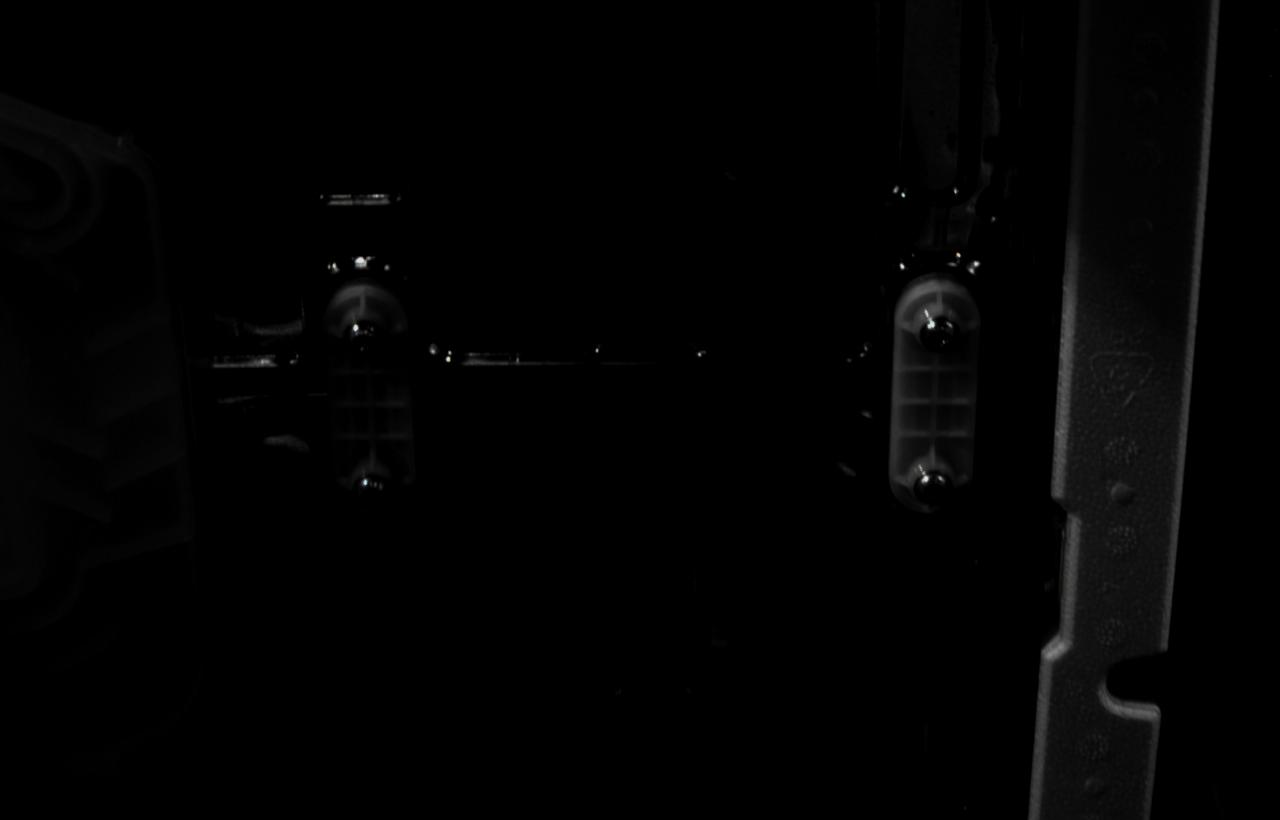vida-ok: (341, 320, 384, 359), (919, 316, 961, 354), (352, 473, 391, 510), (913, 470, 953, 505)
